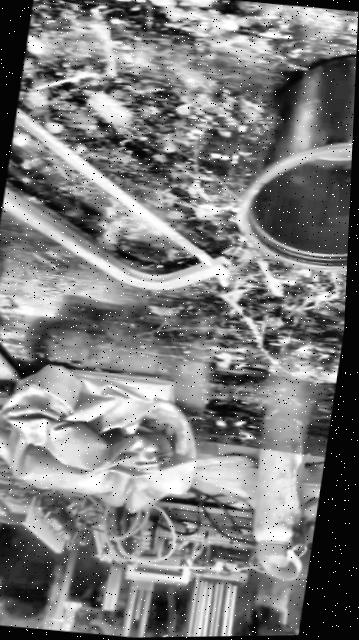pot: (235, 47, 357, 274)
